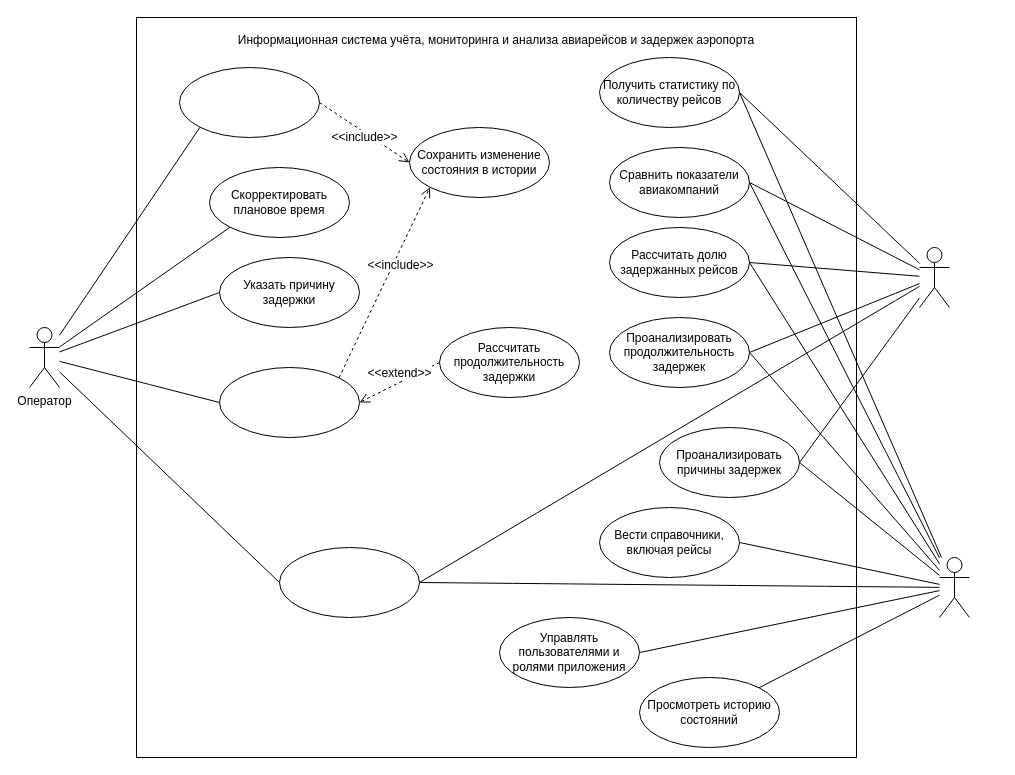
Image size: 1015x775. Some labels were removed from this diagram. The box of each missing label's shape, as (x1, y1, x2, y2) in pixels:
Администратор: (938, 556, 970, 618)
Аналитик: (918, 246, 950, 308)
Зарегистрировать выполнение рейса: (178, 66, 320, 138)
Найти и отфильтровать рейсы: (278, 546, 420, 618)
Сменить состояние выполнения рейса: (218, 366, 360, 438)
